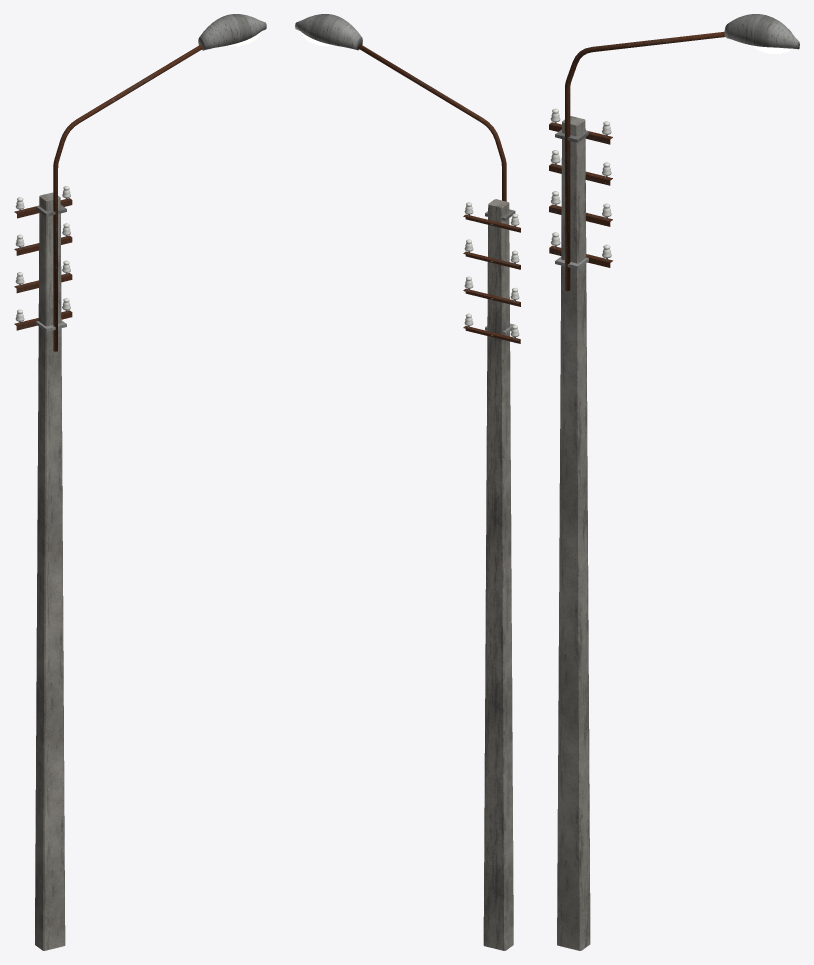
The model's file is pole_sv95_lamp_web.glb.
3 renders of one model, left to right at view 1: azimuth 30°, elevation 25°; view 2: azimuth 150°, elevation 25°; view 3: azimuth 330°, elevation 25°, orthographic. The views are drawn at different scales.
Parts seen in each view (by area): view 1: PoleSV95_Lamp_Mesh; view 2: PoleSV95_Lamp_Mesh; view 3: PoleSV95_Lamp_Mesh.
Boxes of the visible parts, box(x1,y1,x2,y2) form: PoleSV95_Lamp_Mesh: box(14, 14, 266, 950); PoleSV95_Lamp_Mesh: box(295, 14, 520, 950); PoleSV95_Lamp_Mesh: box(549, 14, 799, 950).
Bounding box in the file's own units: 2.66 × 9.52 × 0.4346.
5 materials, 3 textured.
